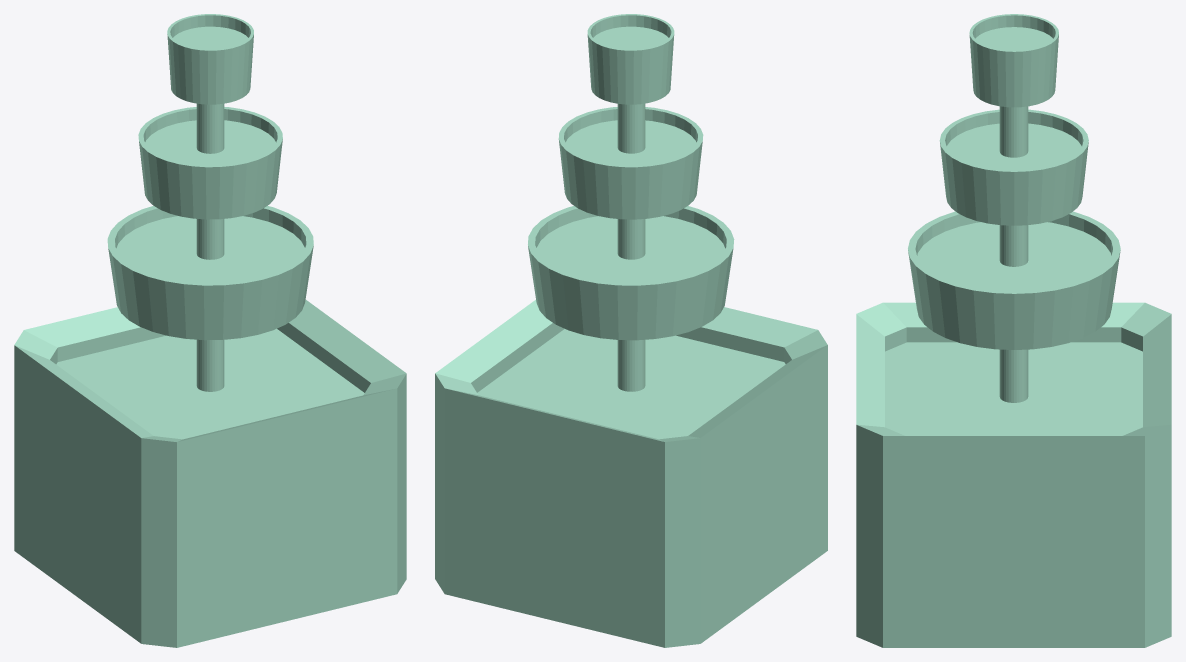
Rendered from flowerbox.fbx.
The picture shows the model from 3 angles, left to right: view 1: azimuth 30°, elevation 25°; view 2: azimuth 150°, elevation 25°; view 3: azimuth 270°, elevation 25°; orthographic projection. The views are drawn at different scales.
Parts seen in each view (by area): view 1: Cube; view 2: Cube; view 3: Cube.
Part boxes in pixels (x1=…): Cube: x1=14, y1=14, x2=406, y2=647; Cube: x1=435, y1=14, x2=827, y2=647; Cube: x1=856, y1=14, x2=1171, y2=647.
Bounding box in the file's own units: 2 × 3.83 × 2.
